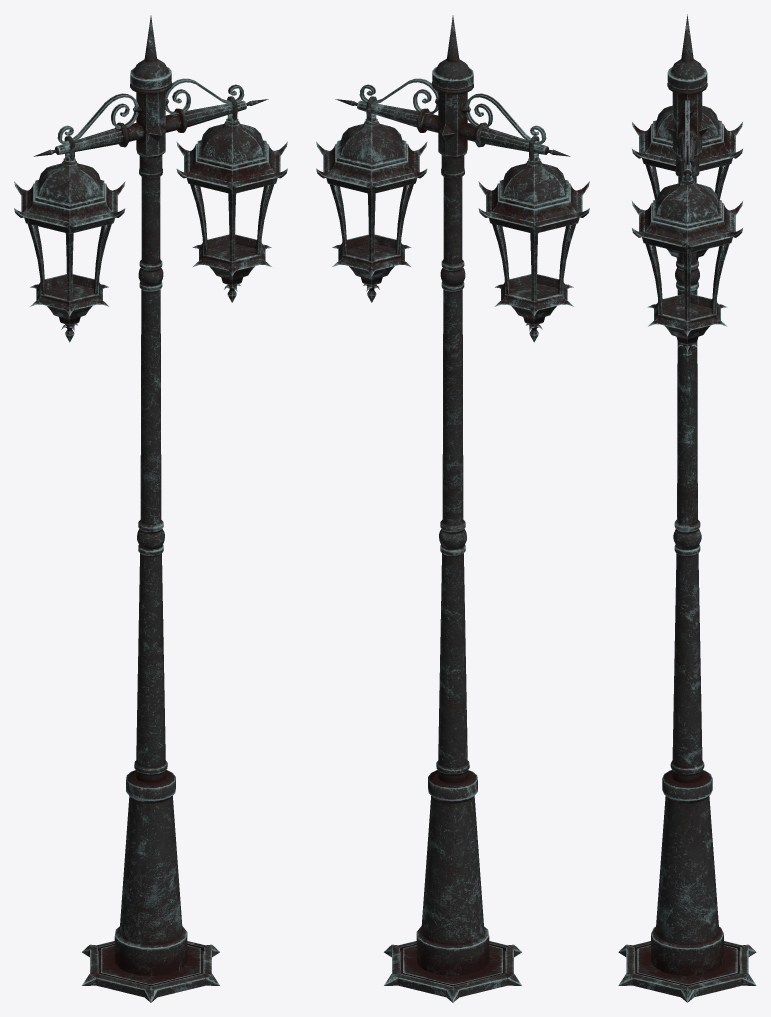
File: lantern.glb
The picture shows the model from 3 angles, left to right: view 1: azimuth 30°, elevation 25°; view 2: azimuth 150°, elevation 25°; view 3: azimuth 270°, elevation 25°; orthographic projection.
Parts seen in each view (by area): view 1: low; view 2: low; view 3: low.
Part boxes in pixels (x1,y1,x2,y2): low: (14,15,287,1002); low: (316,15,589,1002); low: (618,14,756,1002).
Bounding box in the file's own units: 156 × 518 × 68.21.
Materials: 1 (1 with a texture image).
